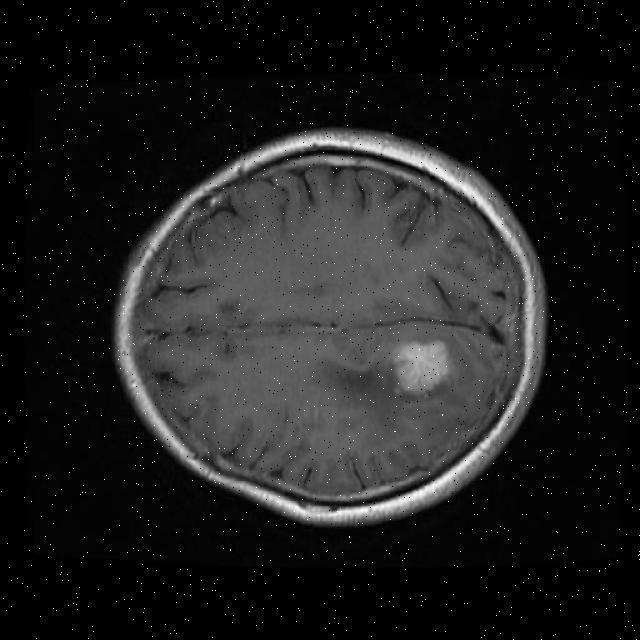Meningioma: (393, 341, 449, 393)
